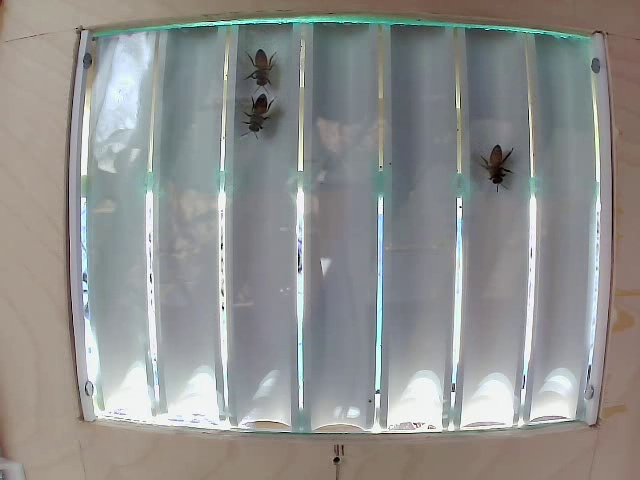bee: (474, 129, 518, 194), (232, 91, 275, 146), (242, 50, 285, 98)
